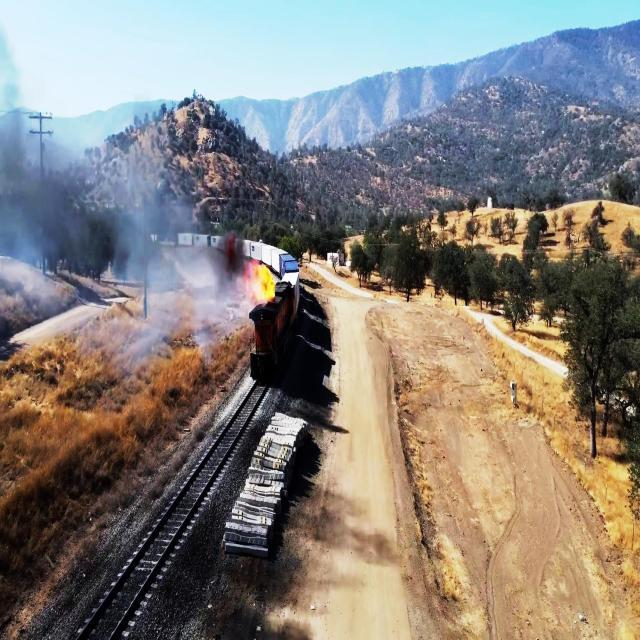Fire: (250, 255, 277, 303)
Smoke: (0, 146, 235, 337)
